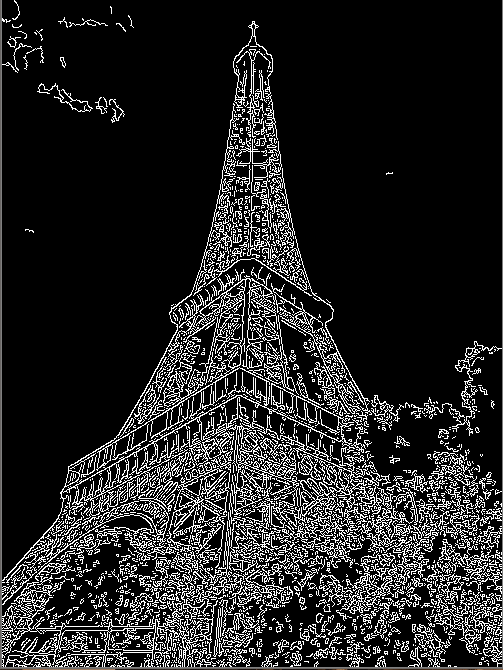eiffel tower: (48, 15, 407, 642)
